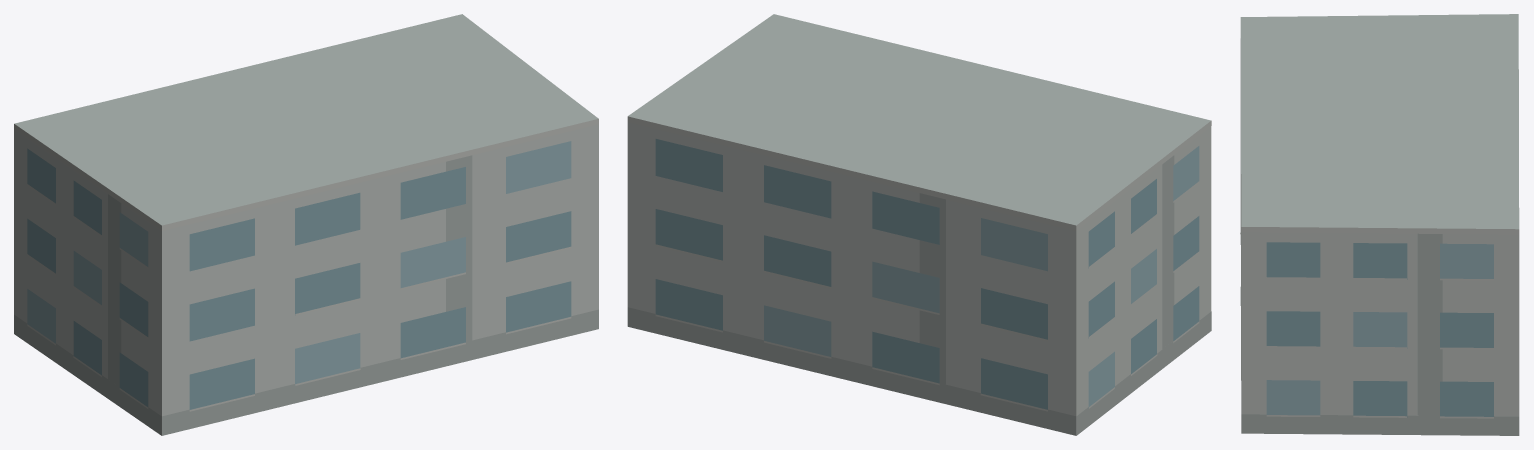
File: survey-upis-32503038.glb
3 views of the same model, side by side, from view 1: azimuth 30°, elevation 25°; view 2: azimuth 150°, elevation 25°; view 3: azimuth 270°, elevation 25° (orthographic).
Visible parts, largest first — view 1: survey-upis-32503038.tmp; view 2: survey-upis-32503038.tmp; view 3: survey-upis-32503038.tmp.
Boxes of the visible parts, x1,y1,x2,y2 form: survey-upis-32503038.tmp: (14, 14, 598, 435); survey-upis-32503038.tmp: (627, 14, 1211, 435); survey-upis-32503038.tmp: (1240, 14, 1519, 435).
Size of the model in its own units: 20.43 by 9.15 by 11.19.
